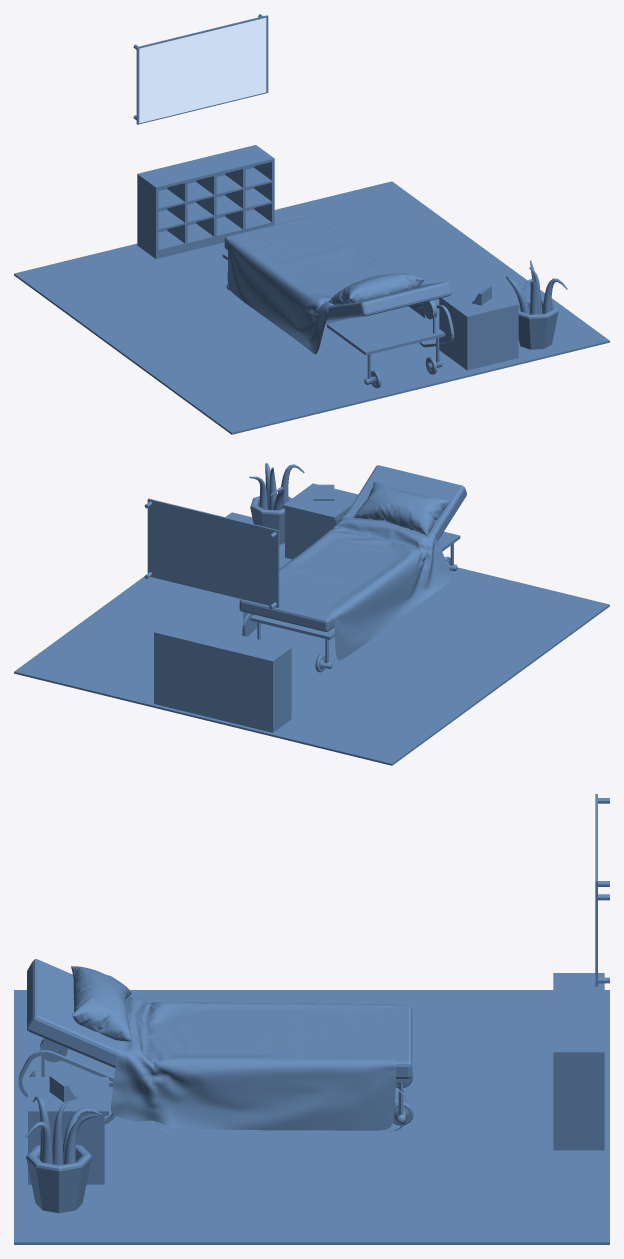
Rendered from side1.gltf.
3 renders of one model, top to bottom at view 1: azimuth 30°, elevation 25°; view 2: azimuth 150°, elevation 25°; view 3: azimuth 270°, elevation 25°, orthographic. The views are drawn at different scales.
Visible parts, largest first — view 1: Cube.001, Plane.001, Cube.010, emitty, Cube.008, Cube.005, Cube.004, Plane.002, Cylinder.005, Cube.003; view 2: Cube.001, Plane.001, Cube.010, Cube.003, Cube.004, Cube.008, Plane.002, Cube.005, Cylinder.005; view 3: Cube.001, Plane.001, Cube.010, Cube.004, Cube.008, Plane.002, Cylinder.005, Cube.005, Cube.003, Cube.002, Cube.006.
Part boxes in pixels (x1=…): Cube.001: x1=14, y1=181, x2=609, y2=434; Plane.001: x1=227, y1=219, x2=425, y2=354; Cube.010: x1=137, y1=145, x2=274, y2=258; emitty: x1=139, y1=17, x2=266, y2=123; Cube.008: x1=438, y1=282, x2=518, y2=370; Cube.005: x1=222, y1=253, x2=445, y2=388; Cube.004: x1=224, y1=216, x2=451, y2=320; Plane.002: x1=328, y1=273, x2=424, y2=305; Cylinder.005: x1=517, y1=298, x2=558, y2=349; Cube.003: x1=133, y1=14, x2=268, y2=124; Cube.001: x1=14, y1=512, x2=609, y2=765; Plane.001: x1=243, y1=512, x2=451, y2=660; Cube.010: x1=154, y1=619, x2=291, y2=732; Cube.003: x1=144, y1=498, x2=279, y2=609; Cube.004: x1=239, y1=465, x2=466, y2=631; Cube.008: x1=283, y1=483, x2=358, y2=559; Plane.002: x1=353, y1=482, x2=449, y2=535; Cube.005: x1=250, y1=531, x2=460, y2=672; Cylinder.005: x1=250, y1=494, x2=291, y2=544; Cube.001: x1=14, y1=990, x2=609, y2=1244; Plane.001: x1=110, y1=996, x2=396, y2=1130; Cube.010: x1=553, y1=973, x2=604, y2=1150; Cube.004: x1=27, y1=959, x2=412, y2=1078; Cube.008: x1=28, y1=1077, x2=108, y2=1184; Plane.002: x1=71, y1=966, x2=131, y2=1041; Cylinder.005: x1=26, y1=1142, x2=91, y2=1213; Cube.005: x1=29, y1=1034, x2=413, y2=1125; Cube.003: x1=595, y1=794, x2=609, y2=986; Cube.002: x1=155, y1=1088, x2=406, y2=1132; Cube.006: x1=18, y1=1050, x2=115, y2=1123.
Size of the model in its own units: 2 by 1.02 by 2.
